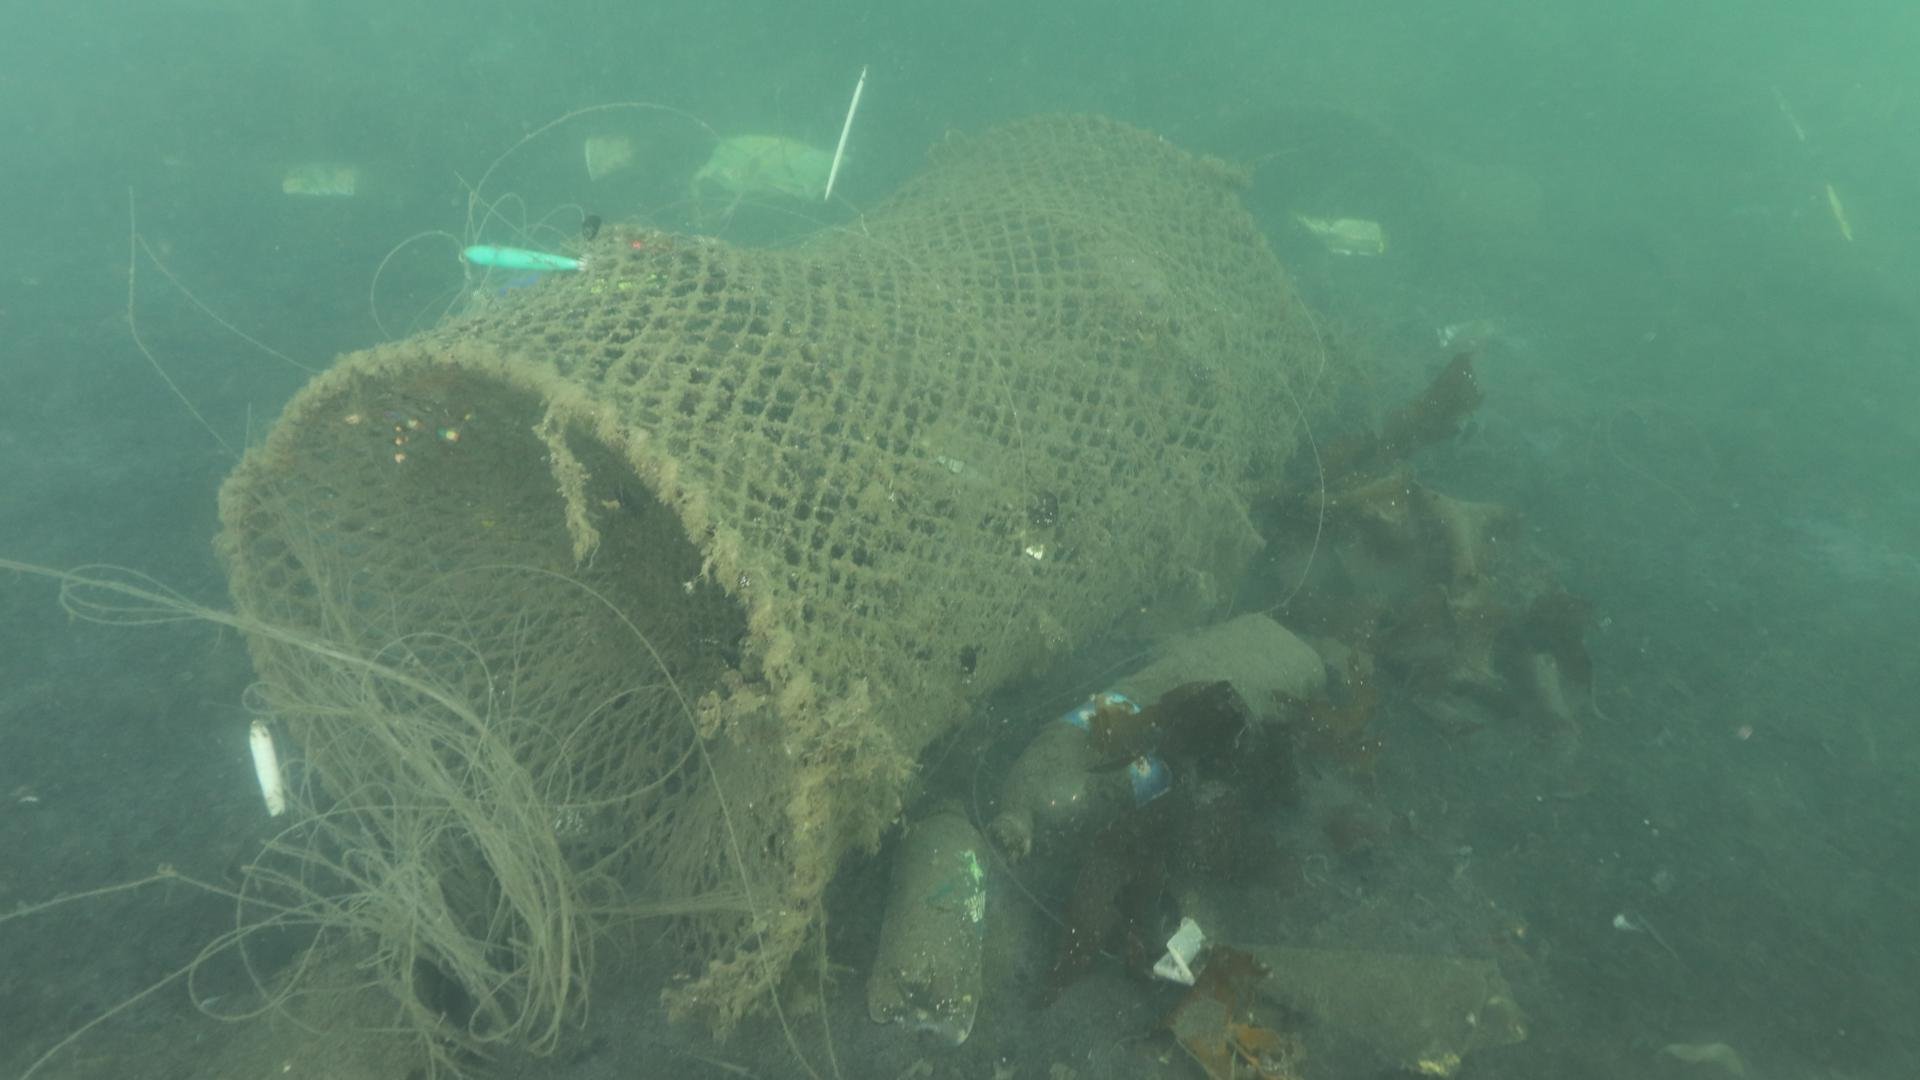spring fish trap: (208, 109, 1385, 1048)
